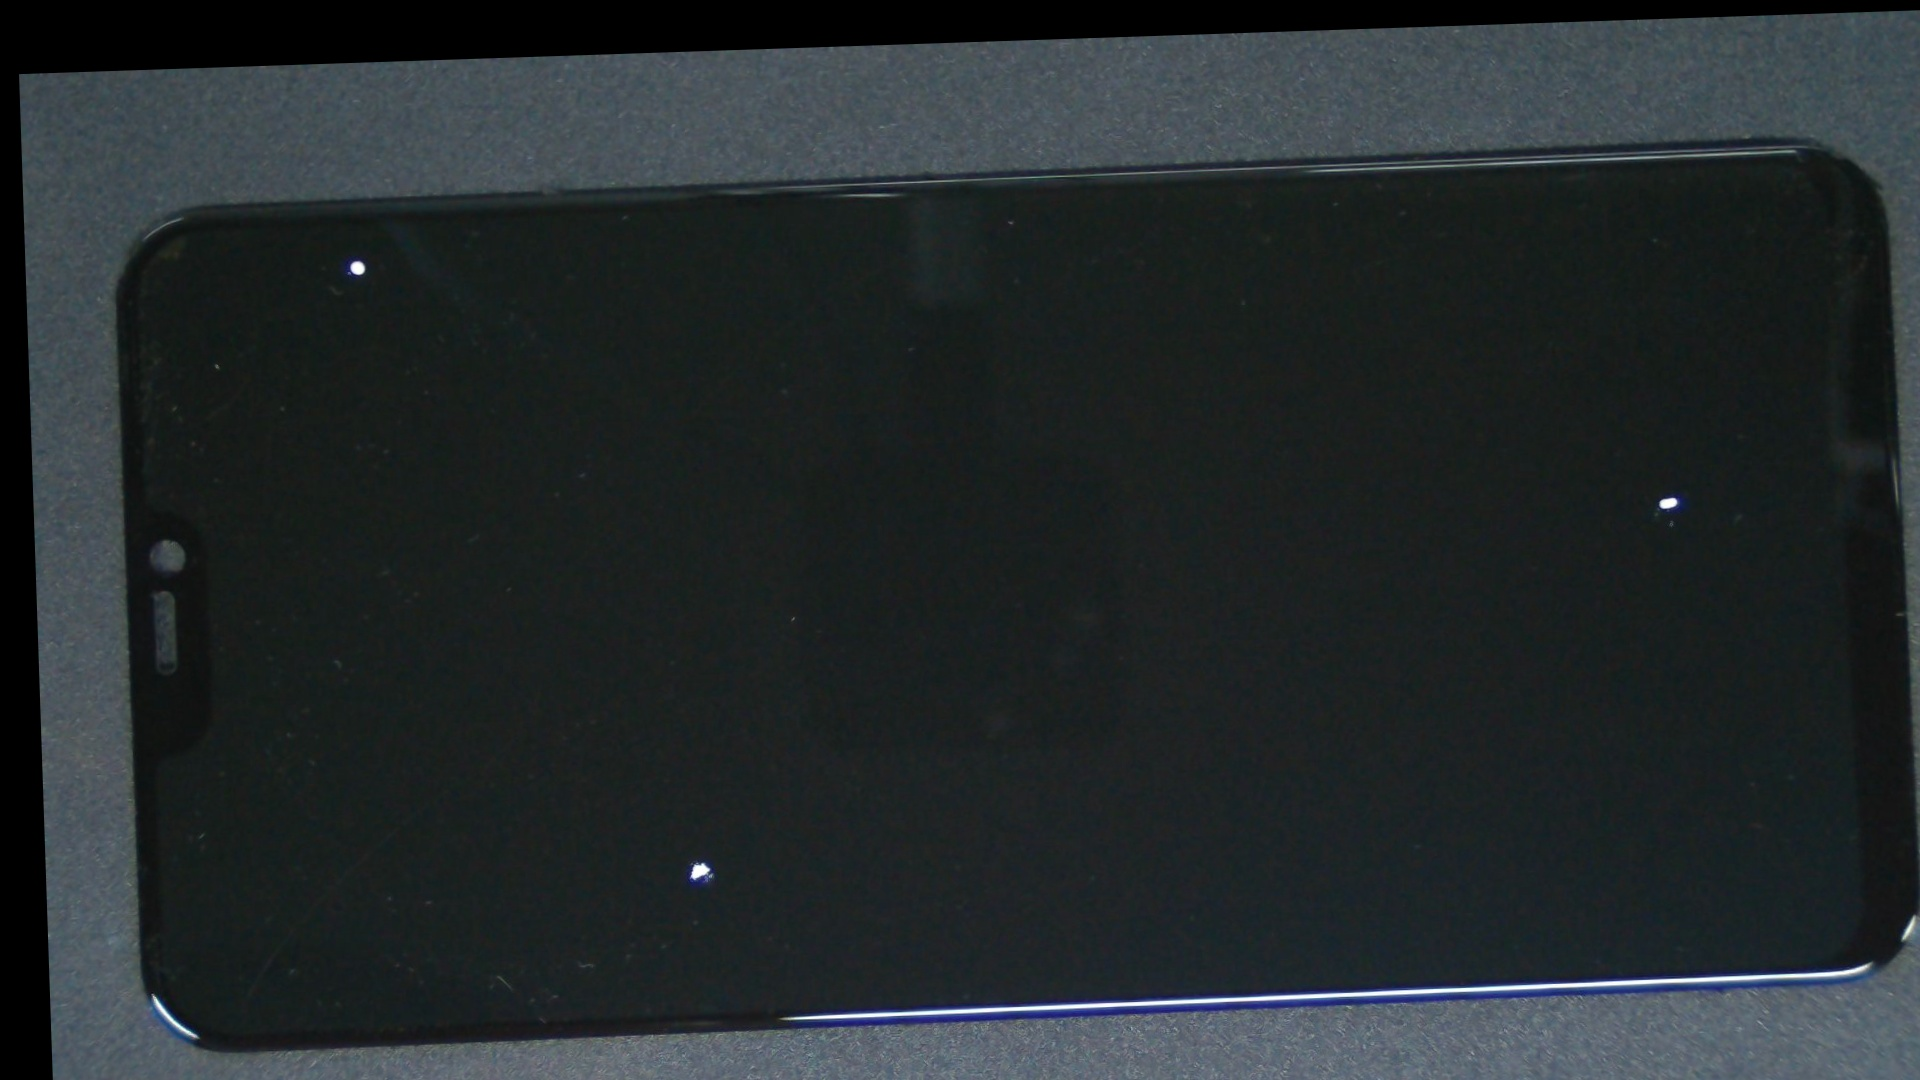oil: (848, 248, 1920, 762), (363, 444, 1043, 1080), (189, 154, 525, 363)
